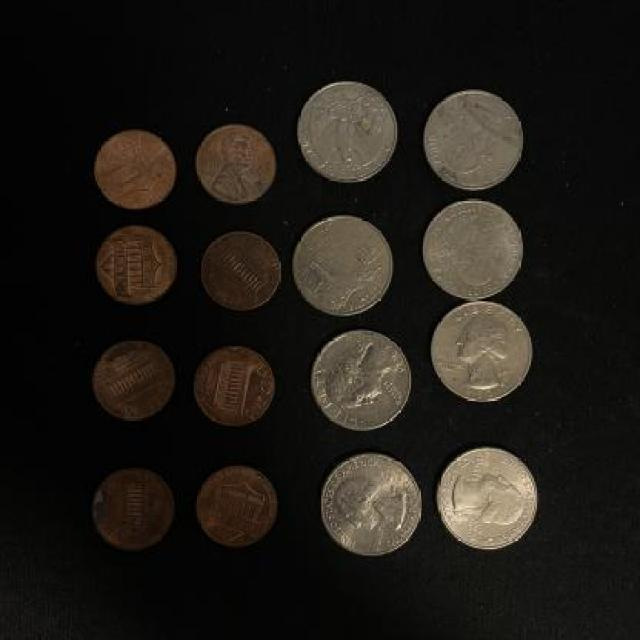Penny: (192, 463, 280, 554), (197, 228, 285, 316), (92, 464, 178, 554), (92, 125, 180, 212), (194, 119, 280, 208), (88, 335, 178, 420), (94, 223, 178, 311), (191, 343, 277, 428)
Quarter: (294, 78, 400, 188), (422, 198, 528, 302), (318, 454, 424, 558), (309, 330, 414, 432), (423, 89, 525, 194), (292, 216, 396, 318), (436, 448, 538, 552), (431, 300, 534, 402)
